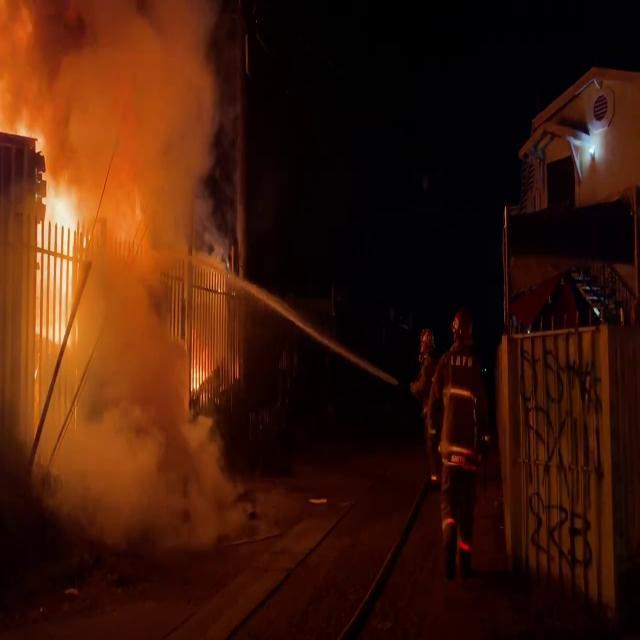Fire: (32, 144, 92, 294)
Smoke: (13, 2, 234, 560)
